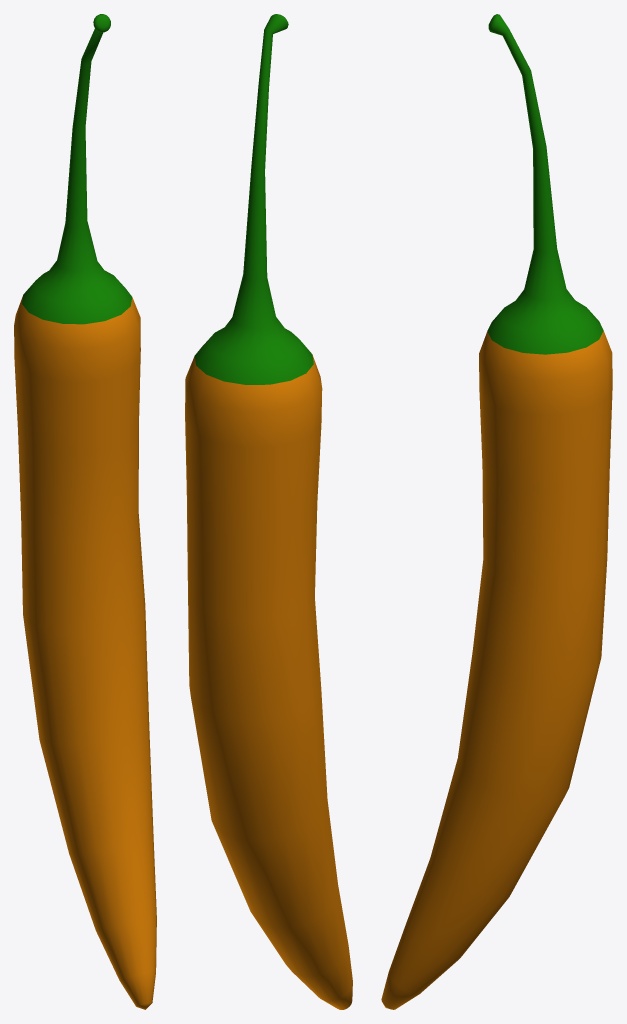
The model's file is Pepper.fbx.
3 renders of one model, left to right at view 1: azimuth 30°, elevation 25°; view 2: azimuth 150°, elevation 25°; view 3: azimuth 270°, elevation 25°, orthographic. The views are drawn at different scales.
Visible parts, largest first — view 1: Pepper; view 2: Pepper; view 3: Pepper.
Boxes of the visible parts, box(x1,y1,x2,y2) form: Pepper: box(14, 14, 156, 1009); Pepper: box(185, 14, 352, 1009); Pepper: box(381, 14, 612, 1009).
Size of the model in its own units: 6.27 by 10.77 by 51.31.
